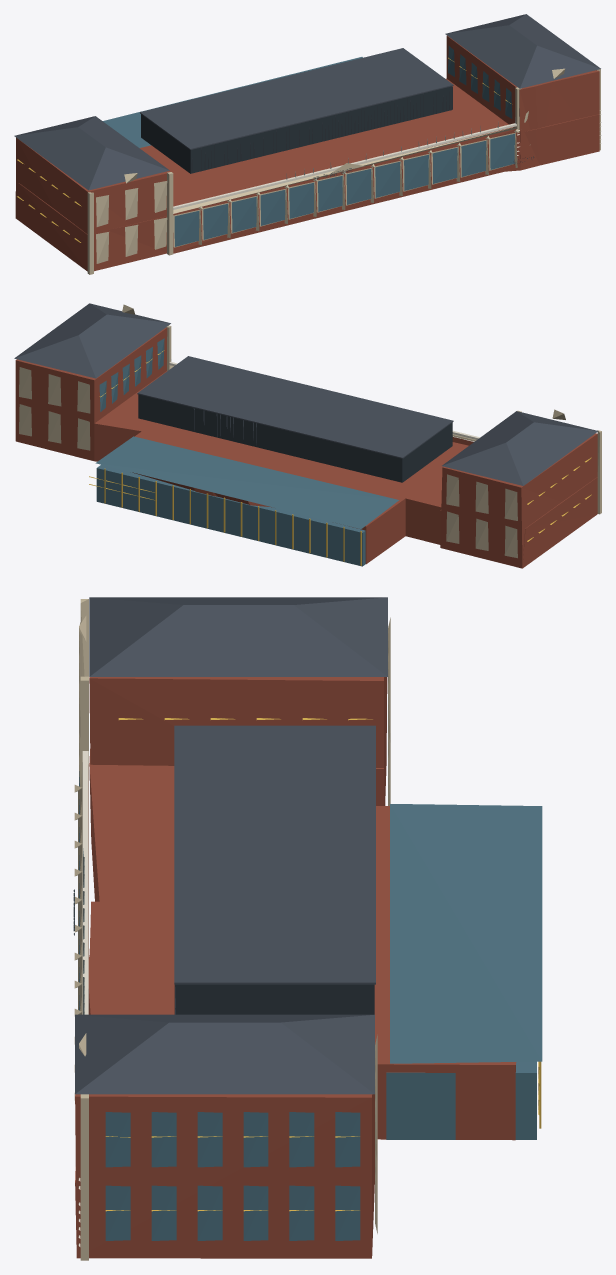
File: micropia-ledenlokalen.lod1.glb
The picture shows the model from 3 angles, top to bottom: view 1: azimuth 30°, elevation 25°; view 2: azimuth 150°, elevation 25°; view 3: azimuth 270°, elevation 25°; orthographic projection. The views are drawn at different scales.
Visible parts, largest first — view 1: micropia-ledenlokalen; view 2: micropia-ledenlokalen; view 3: micropia-ledenlokalen.
Part boxes in pixels (x1,y1,x2,y2): micropia-ledenlokalen: [14, 14, 601, 274]; micropia-ledenlokalen: [14, 303, 601, 568]; micropia-ledenlokalen: [73, 597, 542, 1260].
Size of the model in its own units: 78.5 by 14.45 by 31.12.
